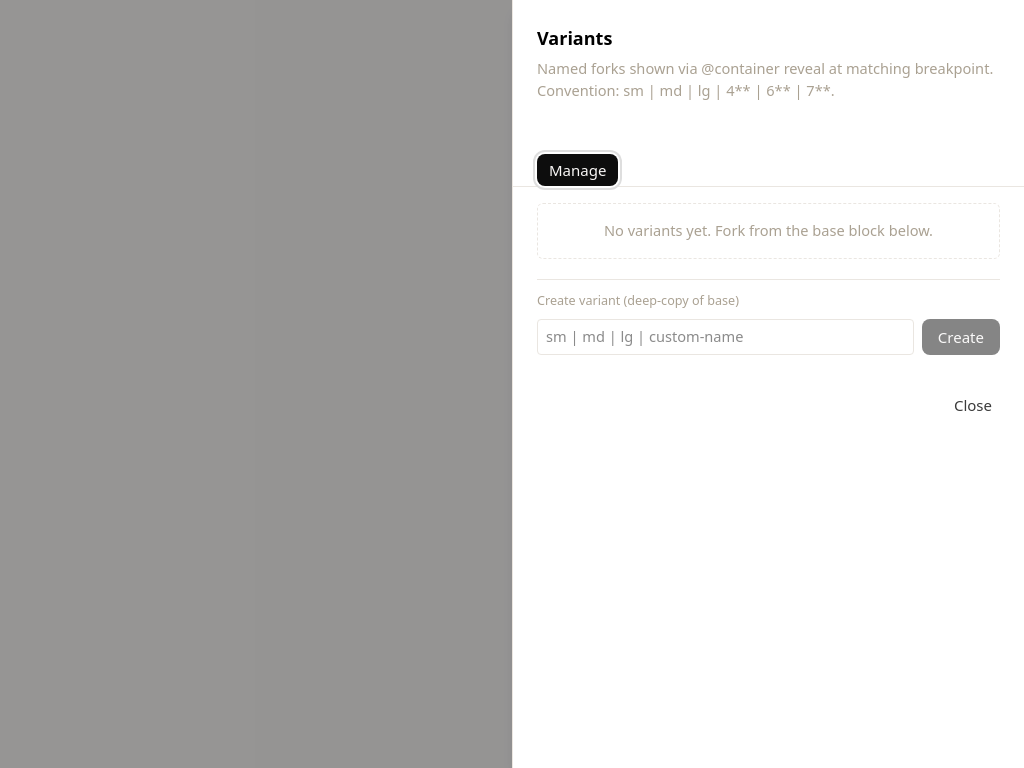
it: VariantsDrawer — fork › fork with non-convention name → warning shown but submit allowed
Type "custom-name" into the field with test id "variants-drawer-fork-input" at (725, 337), box [537, 319, 914, 355]
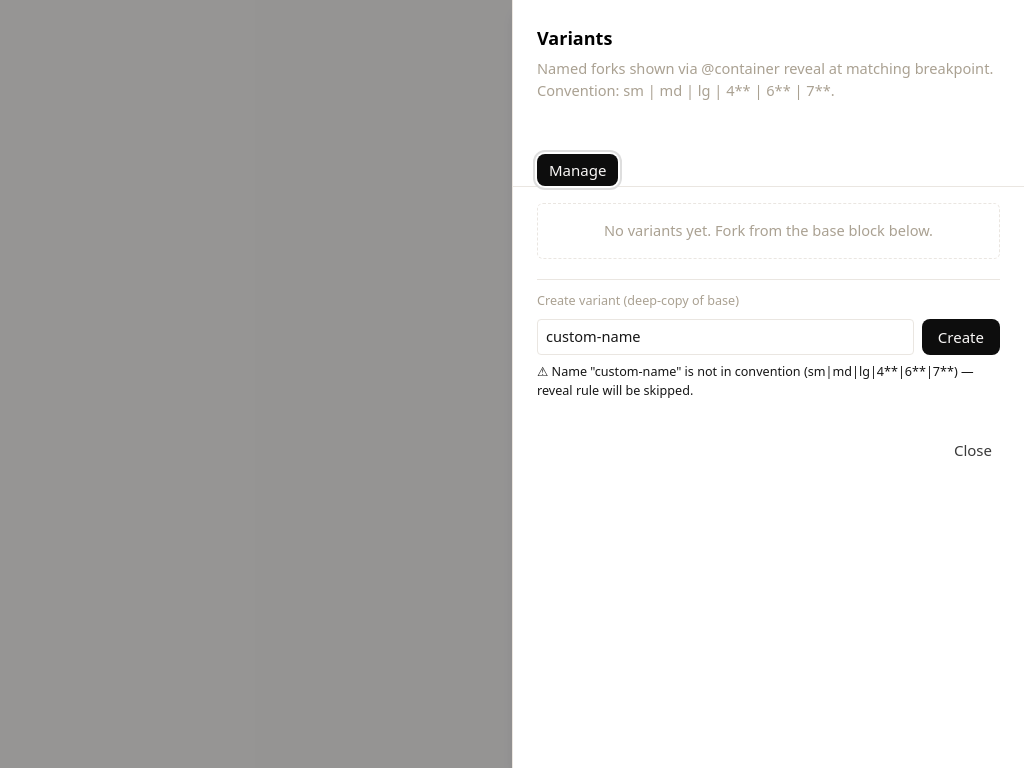
expect the text with test id "variants-drawer-fork-warning" is shown: met, box [537, 363, 1000, 400]
expect the button with test id "variants-drawer-fork-submit" is enabled: met, box [922, 319, 1000, 355]
